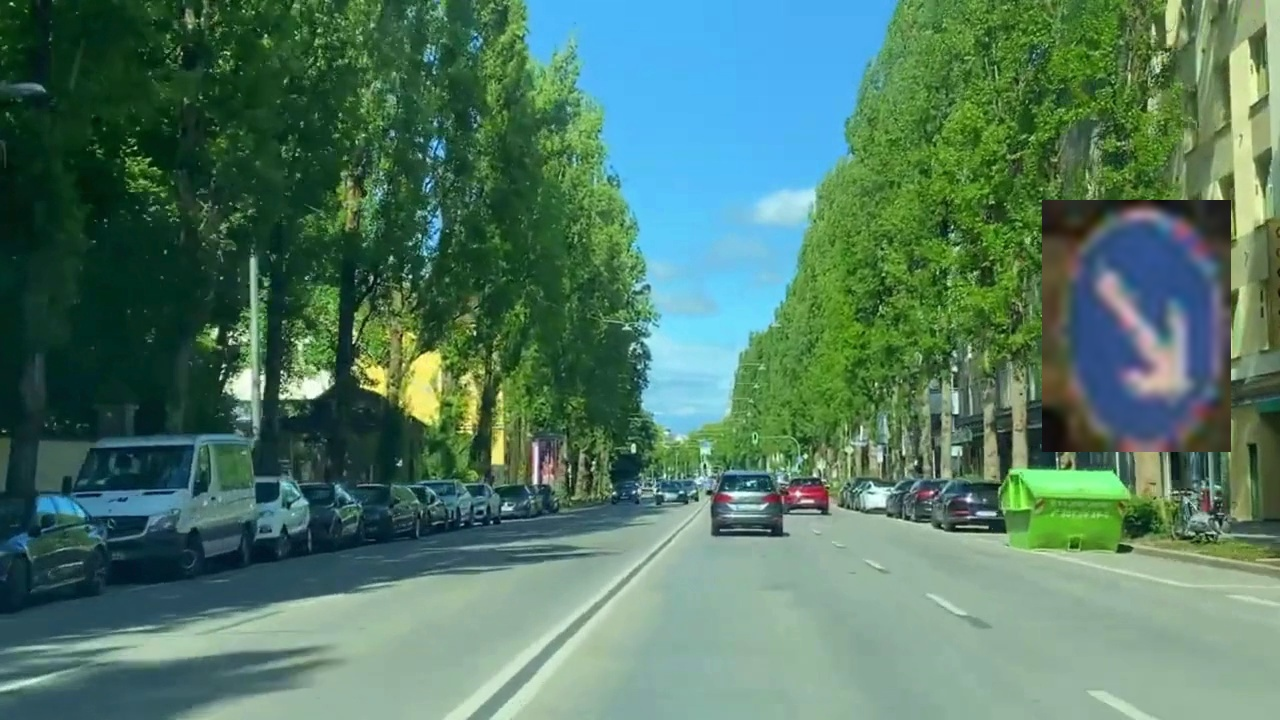Keep right: (1042, 200, 1231, 452)
